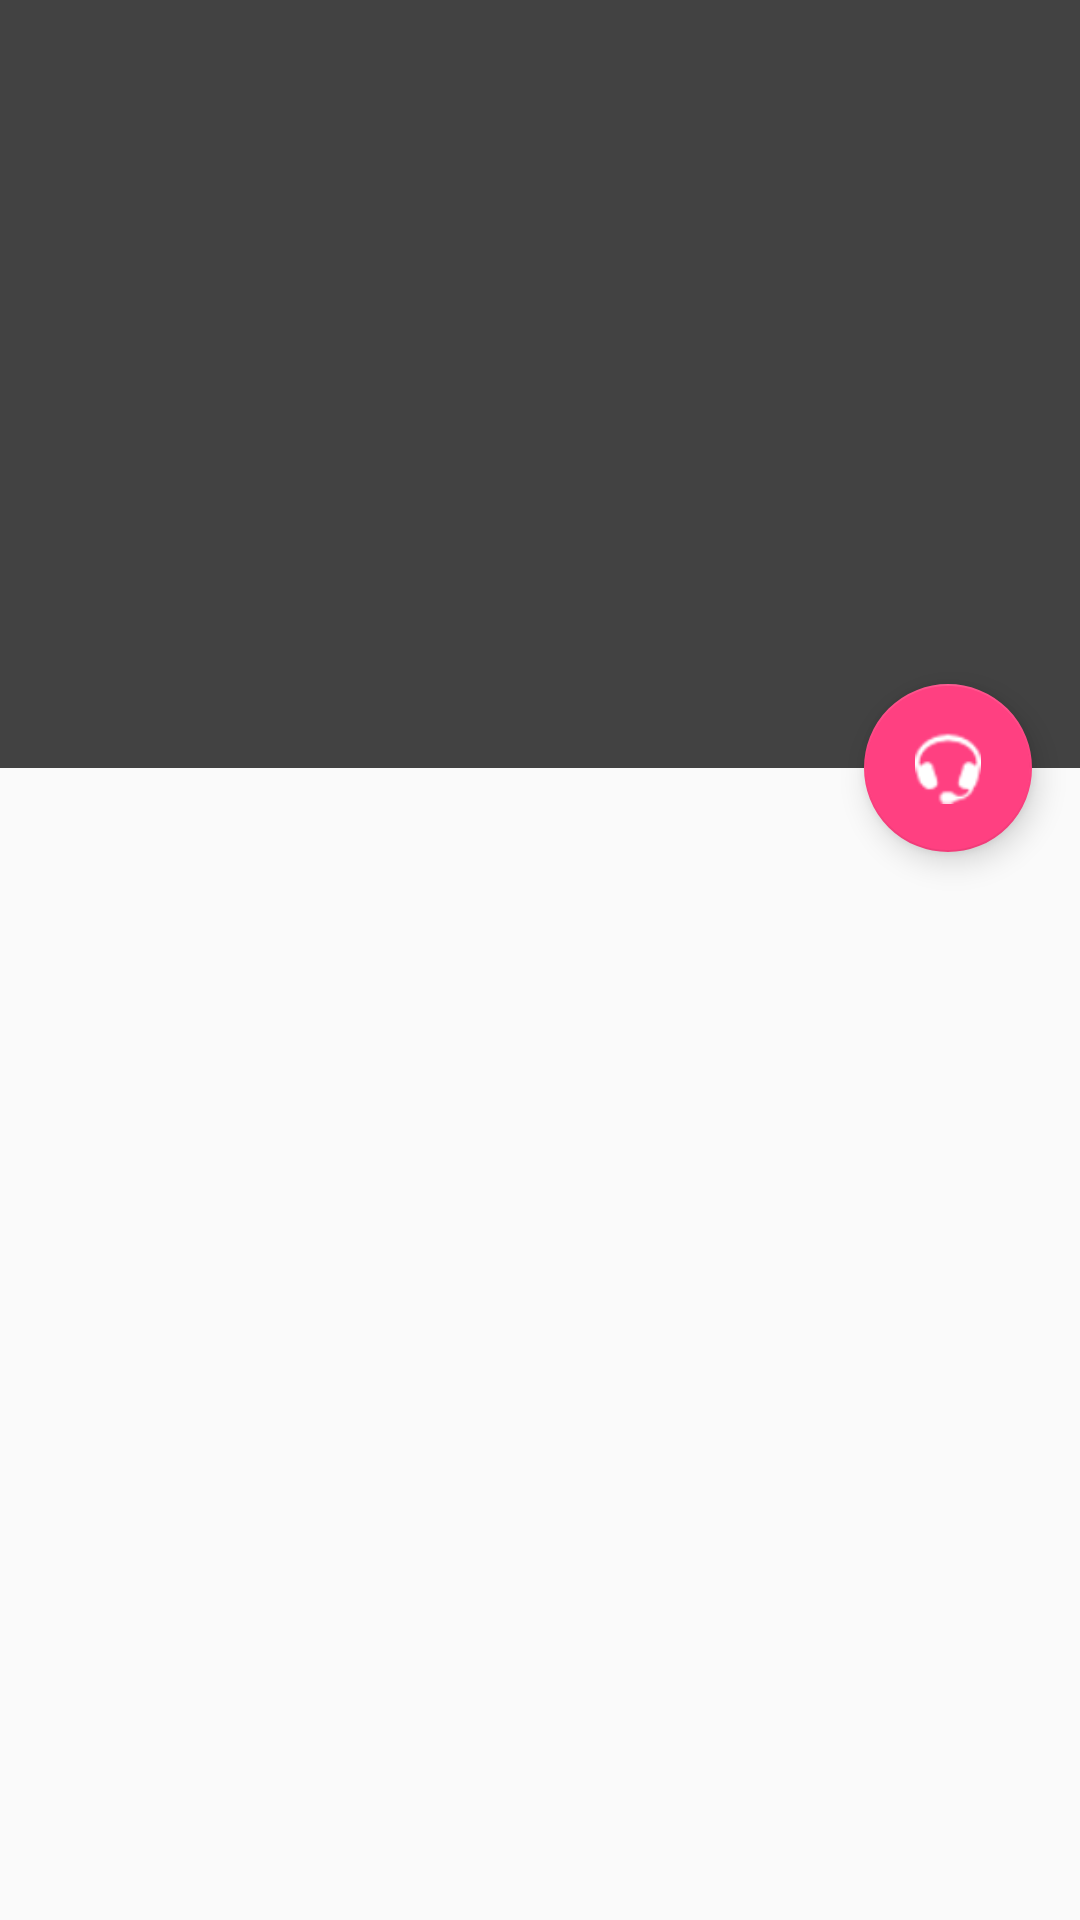

Point at icon controls on the screen. Image size 1080 × 1920, points as [x,y].
headset: [948,768]
